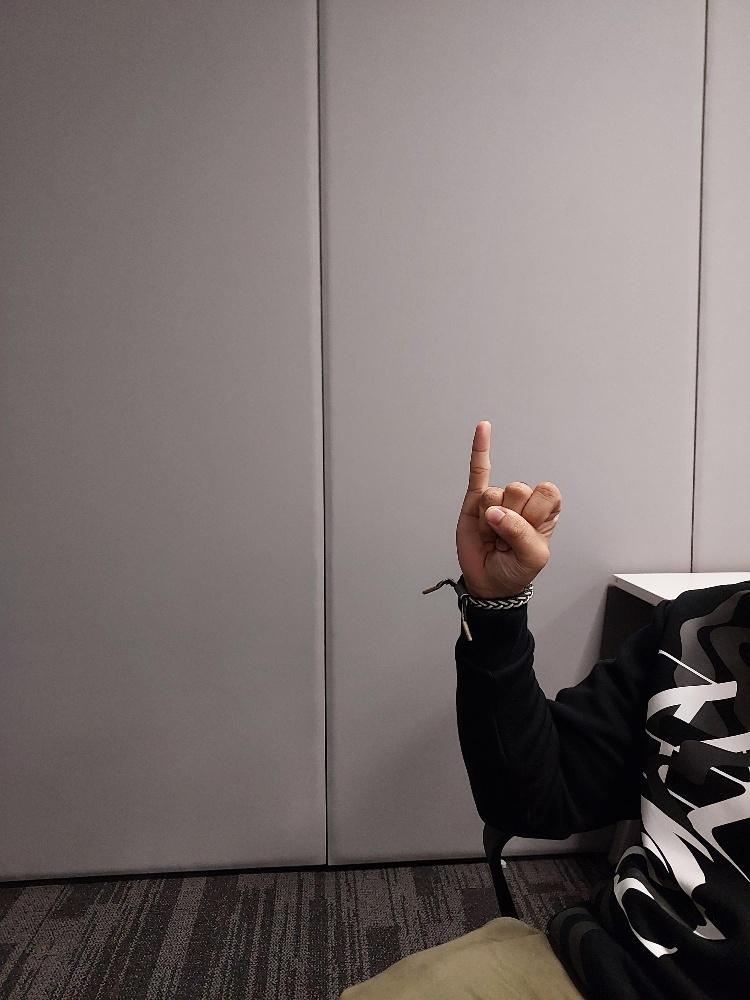i: (451, 415, 564, 597)
